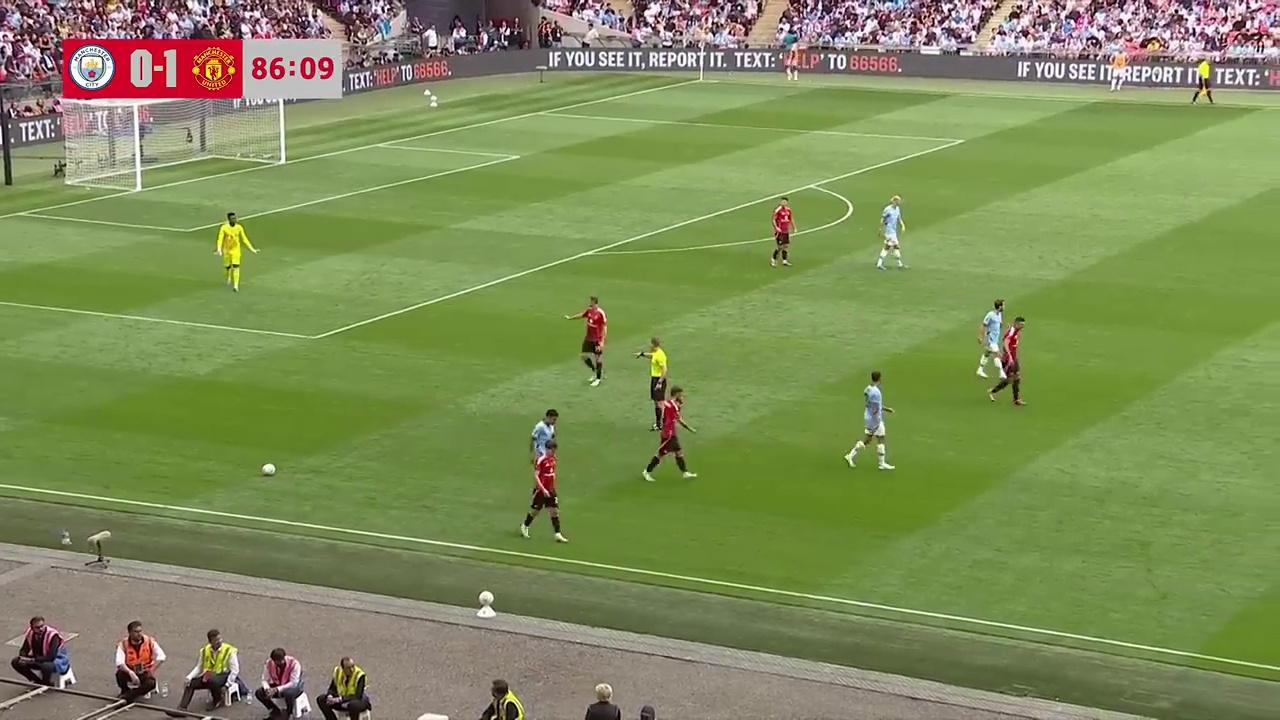ball: (260, 462, 277, 477)
player: (642, 386, 697, 482), (845, 371, 896, 472), (521, 442, 572, 543), (568, 295, 607, 385), (214, 211, 257, 291), (988, 314, 1025, 406), (519, 407, 562, 482), (976, 299, 1006, 382), (876, 194, 907, 271), (771, 198, 794, 267)
referee: (635, 338, 668, 409), (1191, 58, 1214, 106)
